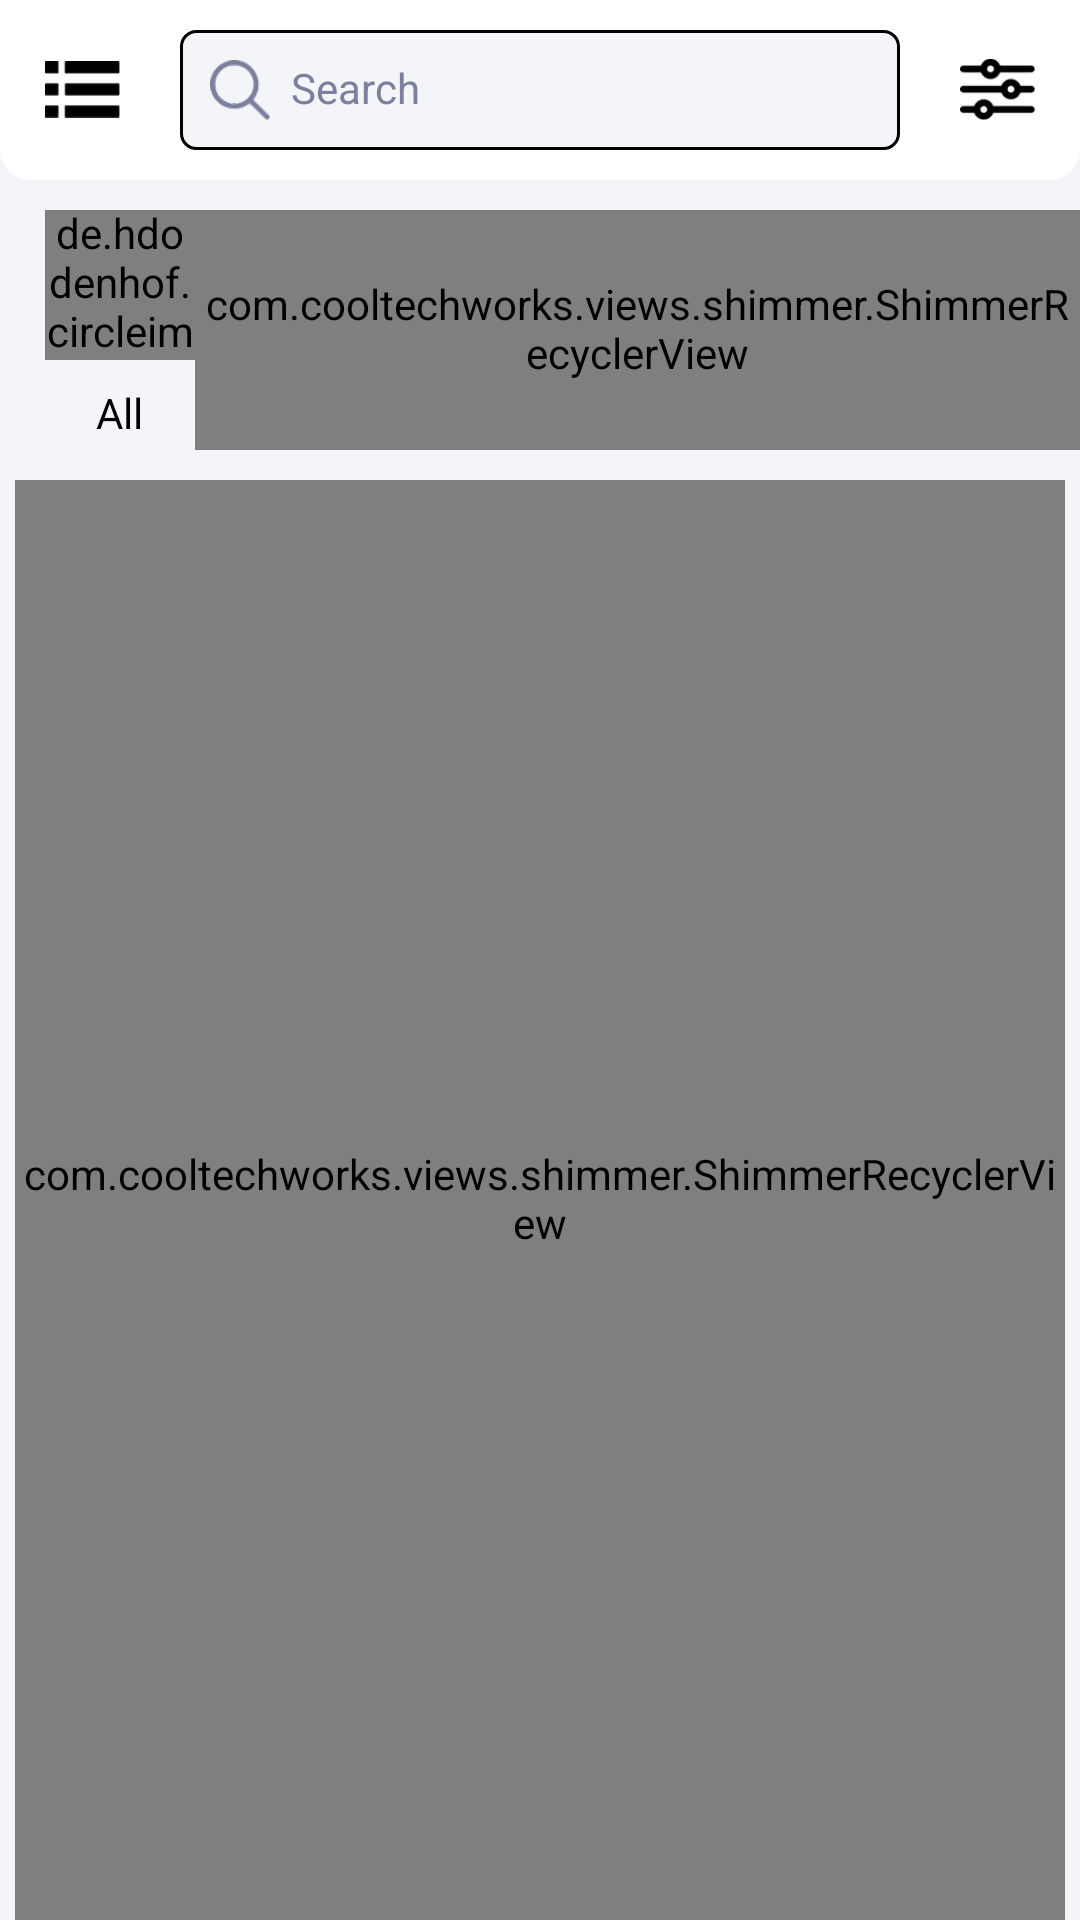

Icons on this 1080w x 1920h Android screen, each with its box as [x1,y1,x2,y2]:
filter: [960,59,1035,120]
menu: [45,61,120,118]
